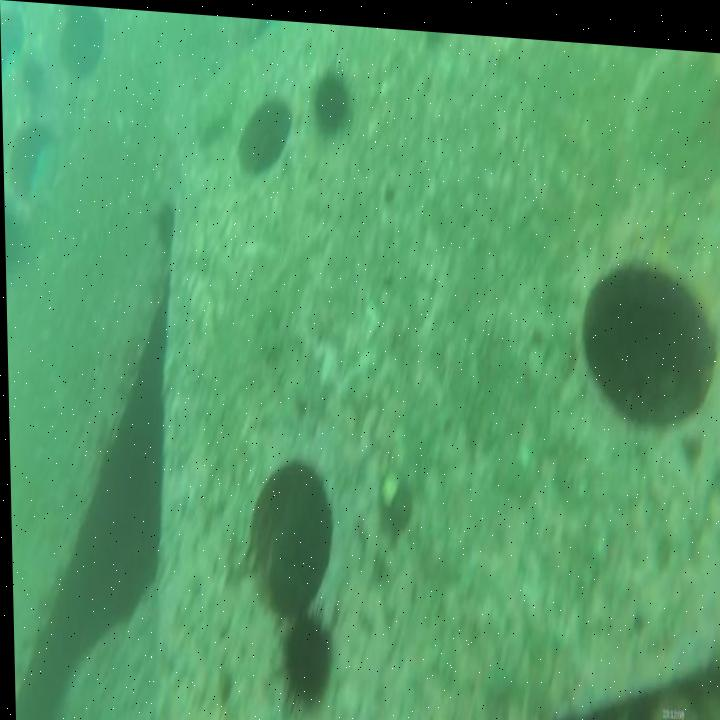echinus: (266, 593, 340, 720), (311, 56, 351, 136)
